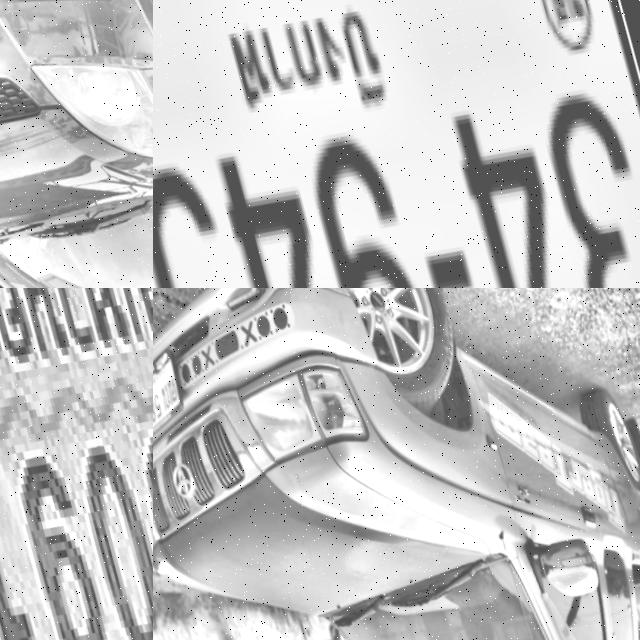license-plate: (153, 0, 640, 288), (0, 288, 153, 640), (153, 325, 195, 448)
